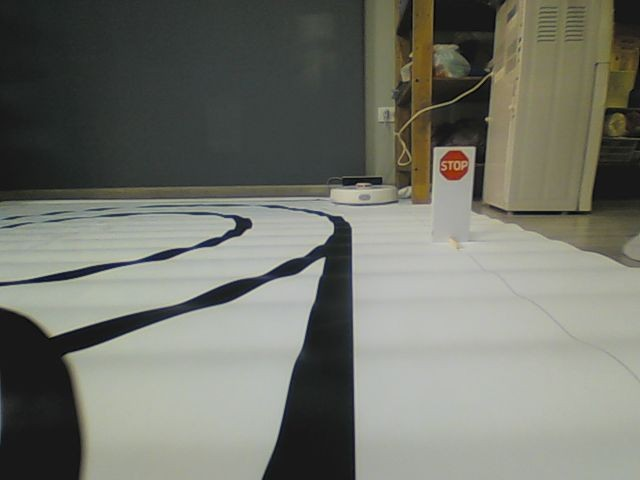Stop: (439, 151, 472, 184)
